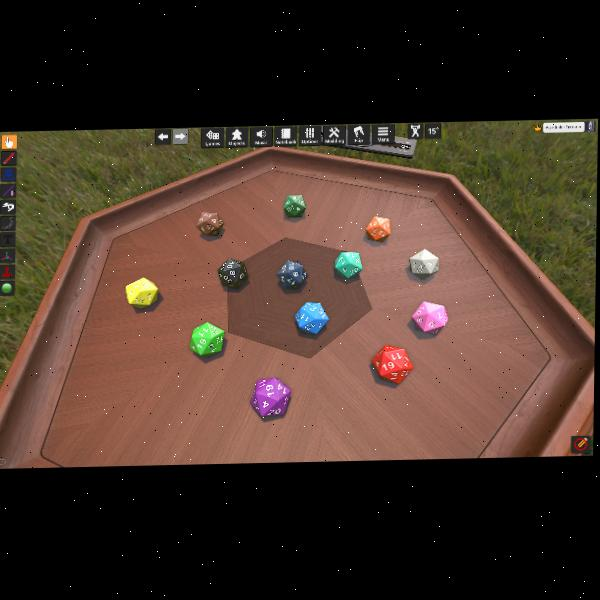d20: (249, 375, 291, 416), (374, 344, 409, 383), (411, 300, 447, 335), (190, 321, 224, 356), (125, 275, 160, 308), (294, 301, 326, 333), (276, 259, 308, 290), (217, 257, 247, 288), (407, 247, 437, 278), (334, 250, 360, 278), (197, 211, 222, 237), (366, 216, 389, 241), (283, 195, 305, 218)
